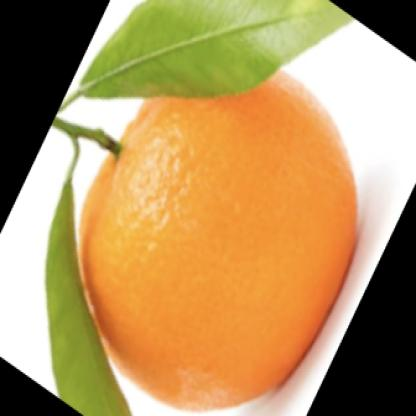fresh: (70, 55, 358, 416)
